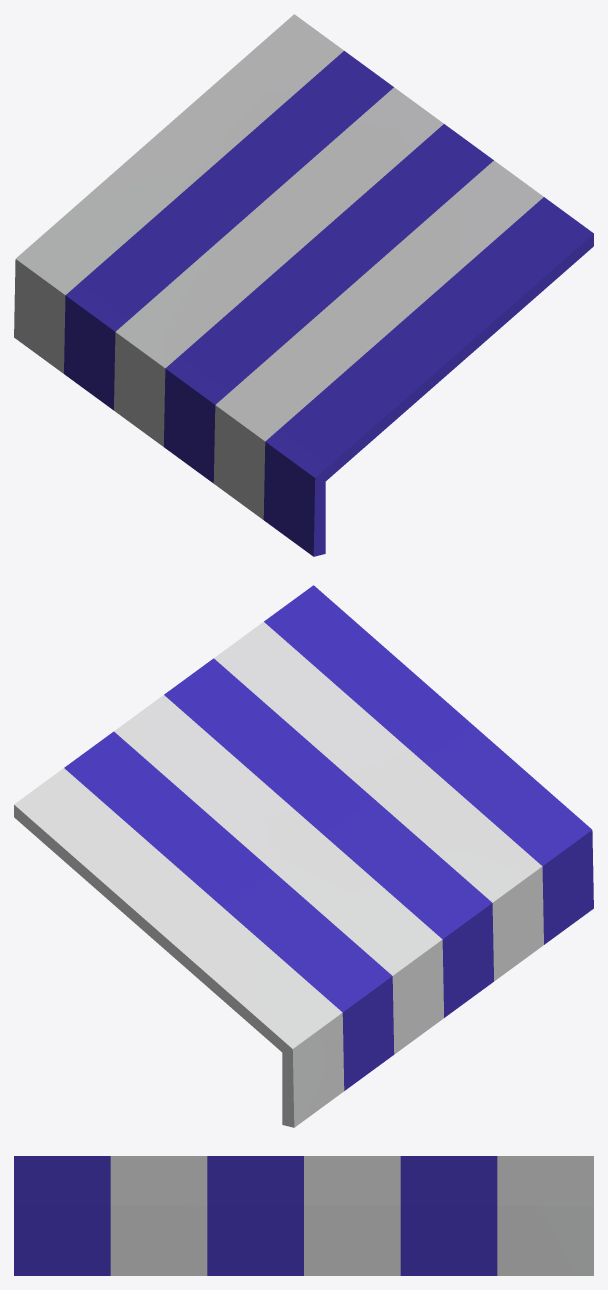
The model's file is Awning_2_D.glb.
3 renders of one model, top to bottom at view 1: azimuth 30°, elevation 25°; view 2: azimuth 150°, elevation 25°; view 3: azimuth 270°, elevation 25°, orthographic. The views are drawn at different scales.
Parts seen in each view (by area): view 1: Awning_2_D; view 2: Awning_2_D; view 3: Awning_2_D.
Boxes of the visible parts, x1,y1,x2,y2 form: Awning_2_D: (14, 14, 593, 556); Awning_2_D: (14, 585, 593, 1127); Awning_2_D: (14, 1156, 593, 1275).
Bounding box in the file's own units: 1.11 × 0.9645 × 2.05.
2 materials, 2 textured.
